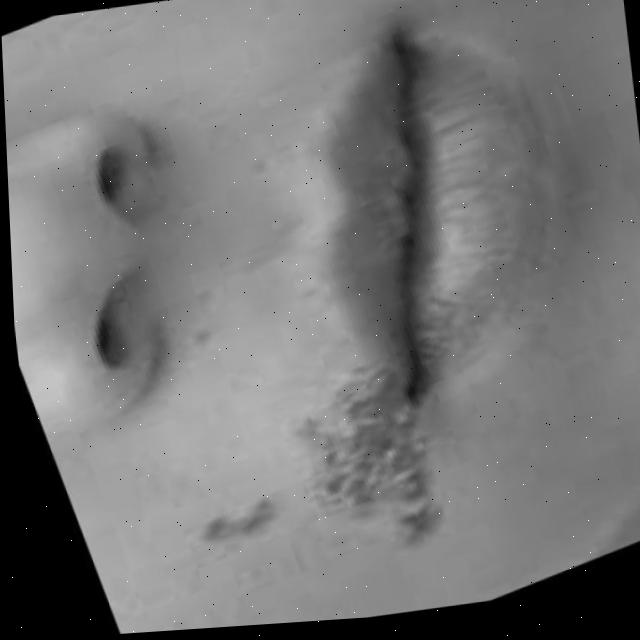Eczema: (199, 353, 443, 585)
